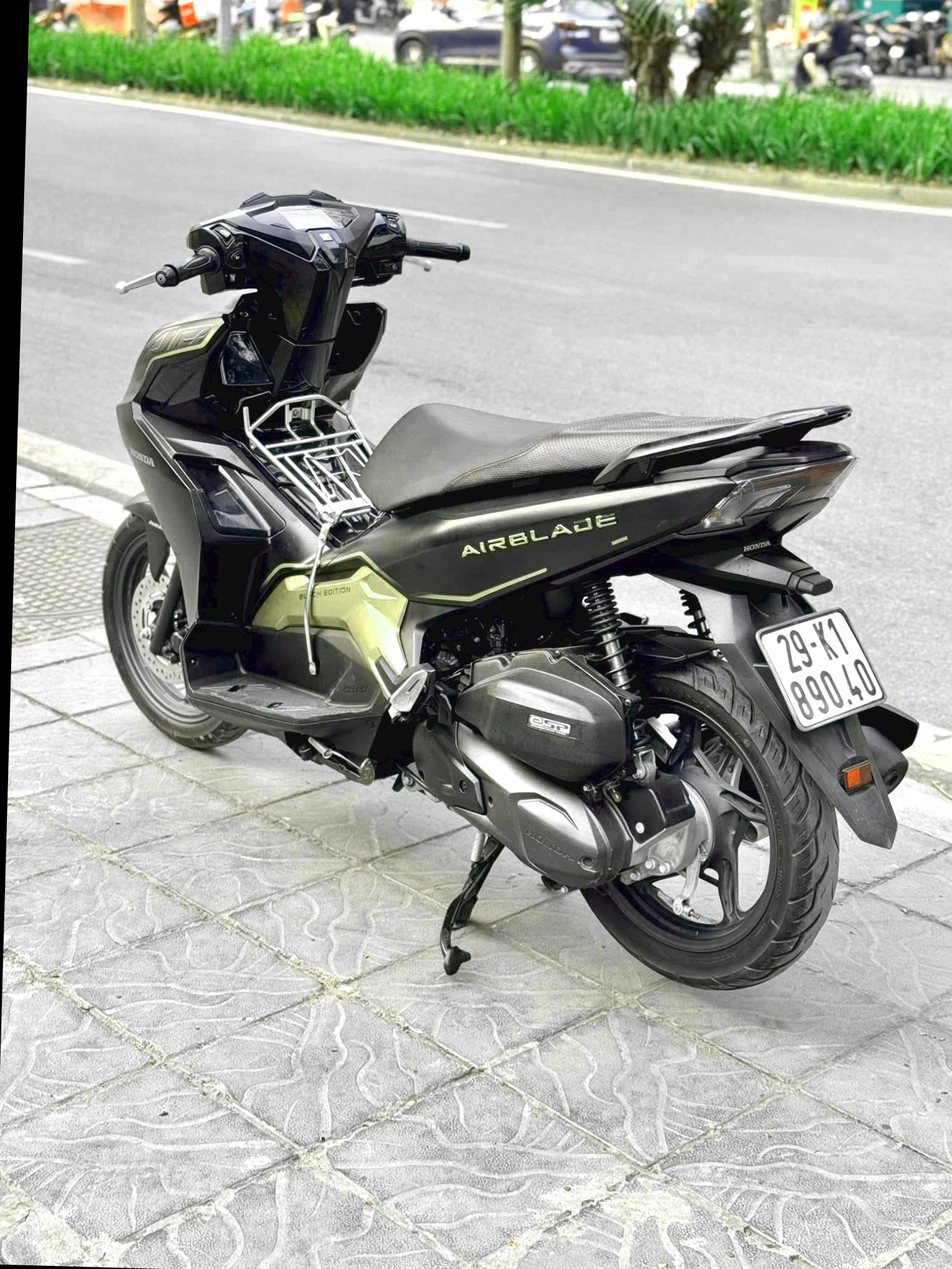Bien-so: (743, 575, 883, 703)
